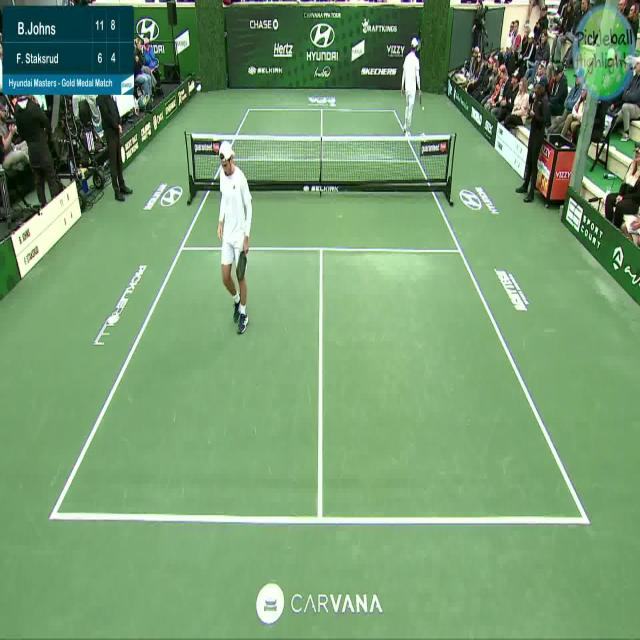Court: (52, 107, 589, 523)
ball: (421, 102, 427, 111)
